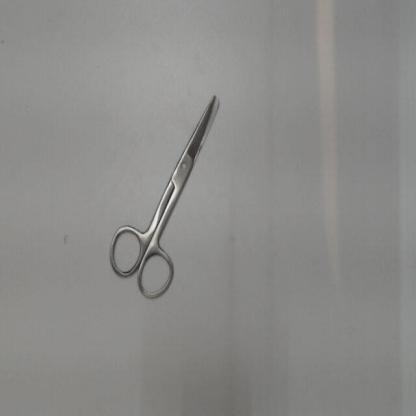Dressing Scissors: (97, 82, 229, 310)
